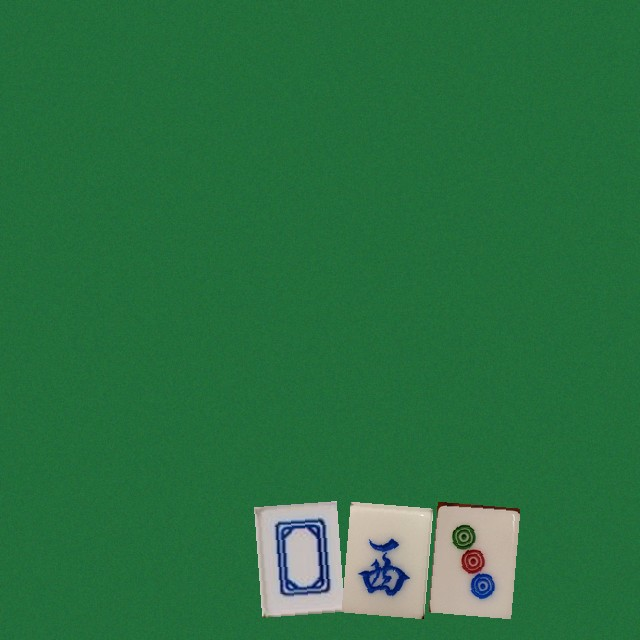tile: (254, 501, 337, 612), (341, 501, 424, 612), (428, 501, 511, 612)
